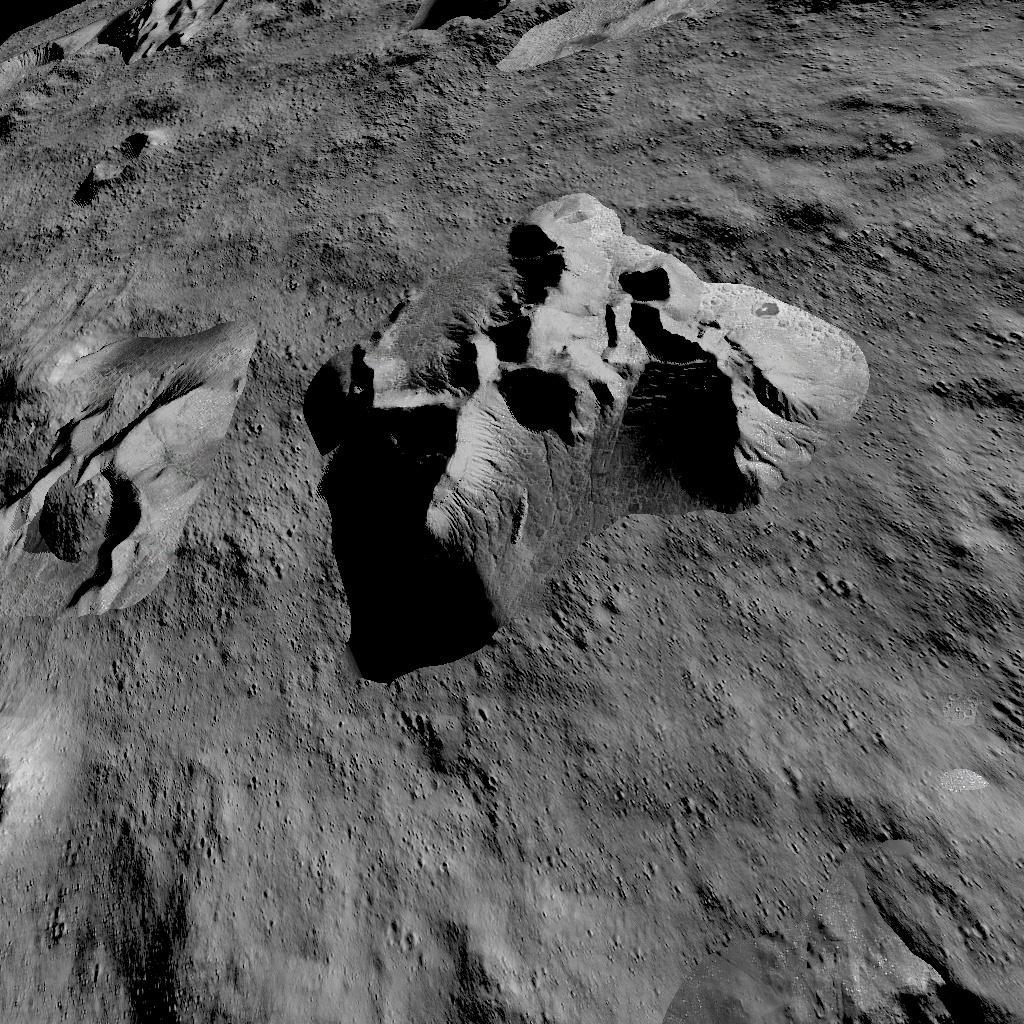Boulders: (292, 176, 866, 686), (396, 0, 796, 75), (98, 0, 291, 64)
Crater: (0, 360, 227, 666), (74, 126, 188, 208), (0, 34, 89, 114)
Plan surface: (9, 701, 1024, 1024), (885, 147, 1024, 687), (817, 0, 1024, 128), (0, 240, 266, 336), (200, 78, 384, 157)
